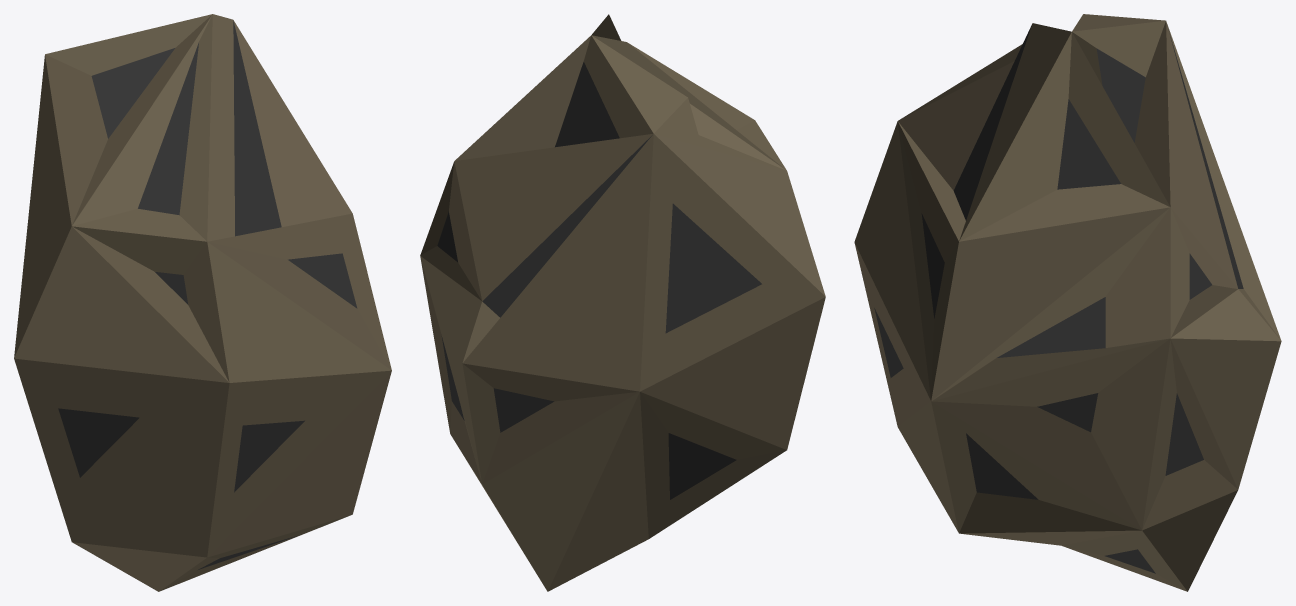
The model's file is peach_pit.fbx.
3 renders of one model, left to right at view 1: azimuth 30°, elevation 25°; view 2: azimuth 150°, elevation 25°; view 3: azimuth 270°, elevation 25°, orthographic. The views are drawn at different scales.
Visible parts, largest first — view 1: Poppy__seeds2; view 2: Poppy__seeds2; view 3: Poppy__seeds2.
Boxes of the visible parts, x1,y1,x2,y2 form: Poppy__seeds2: (14,14,391,591); Poppy__seeds2: (420,14,825,591); Poppy__seeds2: (854,14,1281,591).
Bounding box in the file's own units: 1.56 × 2.35 × 1.59.
